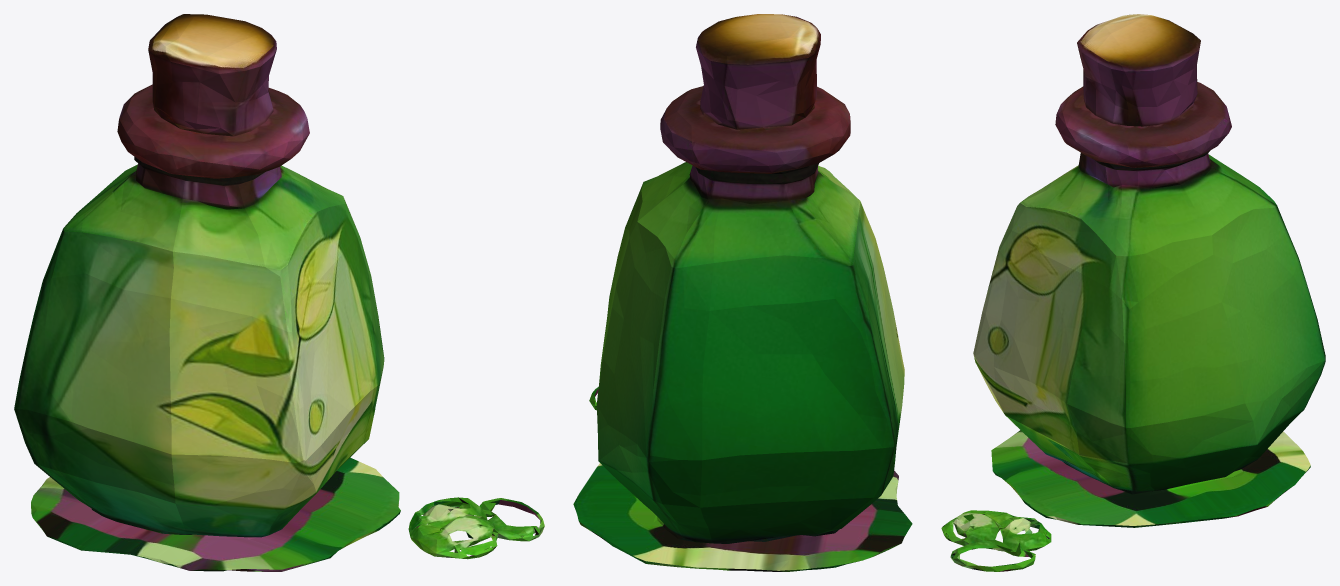
The model's file is antidote.glb.
3 renders of one model, left to right at view 1: azimuth 30°, elevation 25°; view 2: azimuth 150°, elevation 25°; view 3: azimuth 270°, elevation 25°, orthographic. The views are drawn at different scales.
Visible parts, largest first — view 1: tmpgrghxo2k.ply; view 2: tmpgrghxo2k.ply; view 3: tmpgrghxo2k.ply.
Part boxes in pixels (left/top/right/bottom): tmpgrghxo2k.ply: left=14, top=14, right=544, bottom=571; tmpgrghxo2k.ply: left=573, top=14, right=912, bottom=571; tmpgrghxo2k.ply: left=941, top=14, right=1325, bottom=571.
Size of the model in its own units: 1.74 by 1.97 by 1.58.
Materials: 1 (1 with a texture image).
